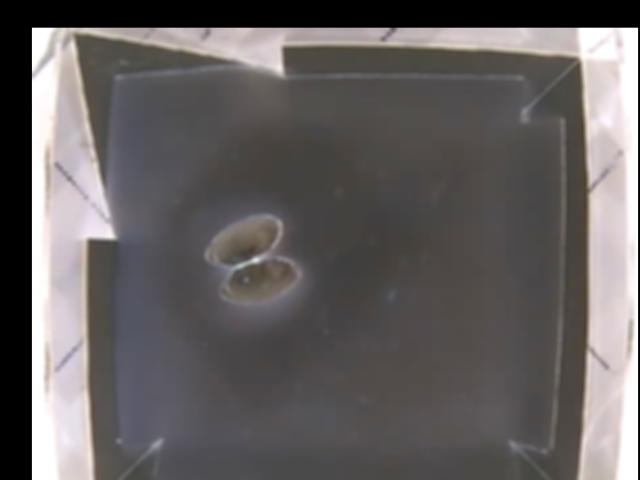Shell: (204, 214, 298, 305)
